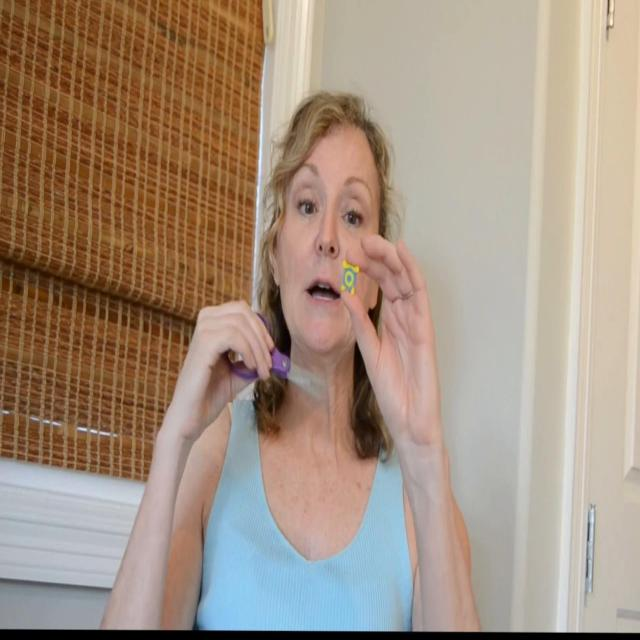scissor: (227, 313, 326, 399)
